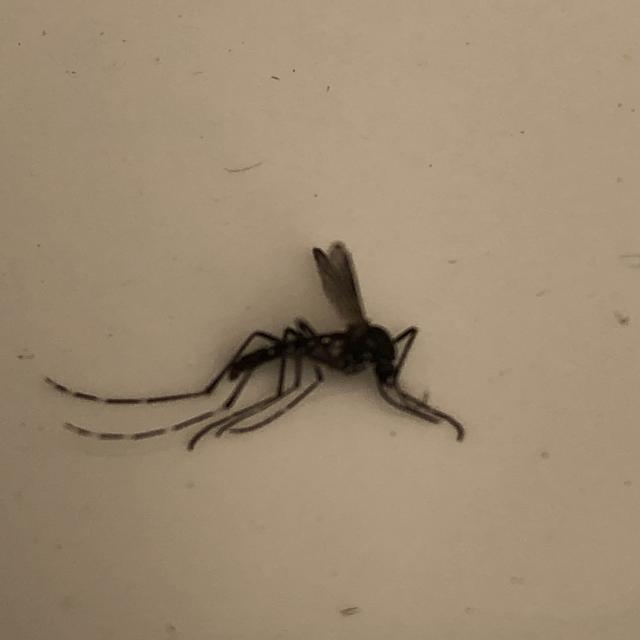albopictus: (64, 222, 491, 465)
